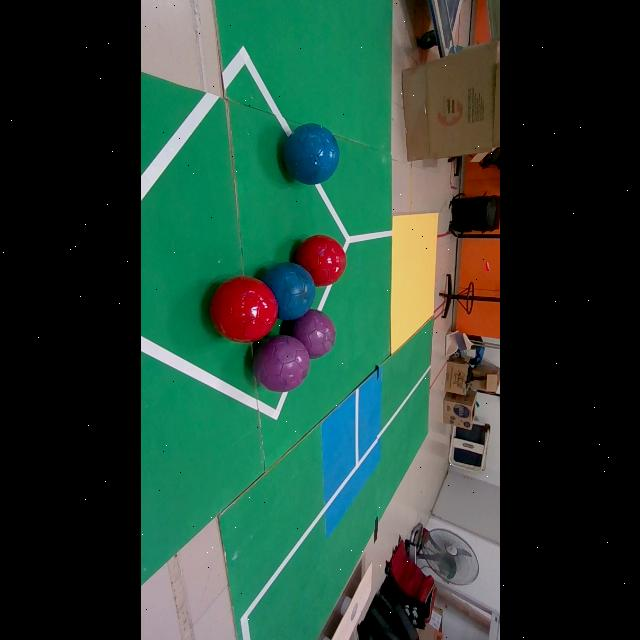B: (282, 123, 339, 185), (260, 262, 315, 320)
P: (252, 336, 310, 392), (285, 310, 335, 359)
R: (209, 276, 278, 343), (293, 235, 346, 287)
